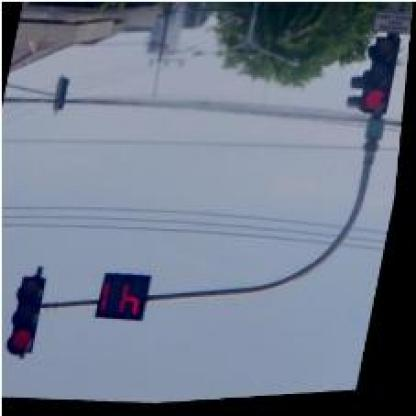red: (356, 40, 402, 121), (12, 275, 50, 355)
